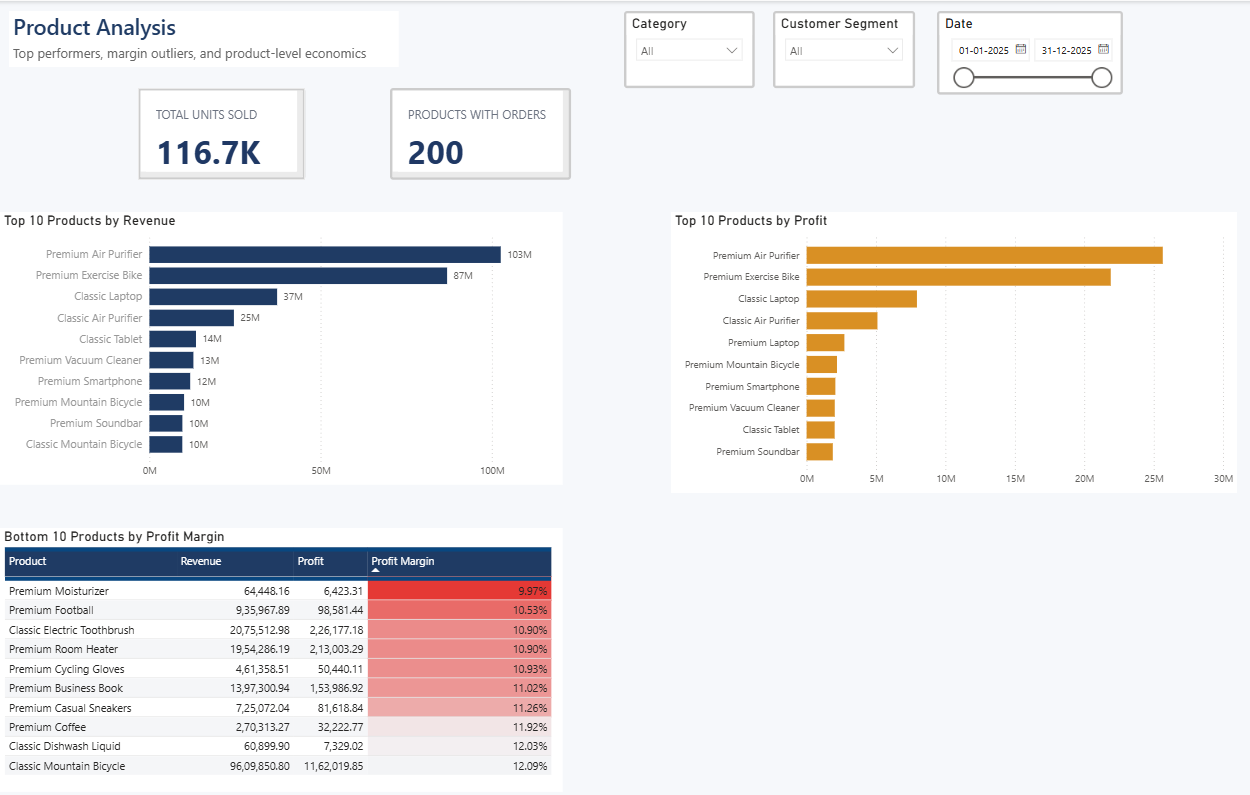

The page's visual inventory and layout, read from the dashboard file:
{"tool":"powerbi","page":{"name":"Product Analysis","canvas":[1600,1000],"ordinal":1},"visuals":[{"type":"clusteredBarChart","title":"Top 10 Products by Revenue","fields":{"Category":["products.product_name"],"Y":["Sum(orders.revenue)"]},"box":[0,259.9,693.3,336.2],"z":0},{"type":"clusteredBarChart","title":"Top 10 Products by Profit","fields":{"Category":["products.product_name"],"Y":["Sum(orders.profit)"]},"box":[826.4,259.9,697,346.1],"z":1000},{"type":"tableEx","title":"Bottom 10 Products by Profit Margin","fields":{"Values":["products.product_name","Sum(orders.revenue)","Sum(orders.profit)","orders.Profit Margin"]},"box":[0,649,693.3,325.1],"z":2000},{"type":"textbox","title":"Product Analysis","box":[11.1,12.3,480.3,69],"z":3000},{"type":"cardVisual","fields":{"Data":["orders.Total Units Sold"]},"box":[170,107.1,205.7,113.3],"z":4000},{"type":"cardVisual","fields":{"Data":["orders.Products with Orders"]},"box":[480.3,107.1,222.9,113.3],"z":5000},{"type":"slicer","title":"Date","fields":{"Values":["orders.order_date"]},"box":[1153.8,12.2,229.4,103.1],"z":6000},{"type":"slicer","title":"Category","fields":{"Values":["products.category"]},"box":[768.1,12.2,160.7,95.3],"z":7000},{"type":"slicer","title":"Customer Segment","fields":{"Values":["customers.customer_segment"]},"box":[952.1,12.2,175.1,95.3],"z":8000}]}

Visuals, with their boxes in screenshot pixels (x1, y1, x2, y2), scaled from the page's 1600x1000 canvas onto the 1250x795 screenshot:
"Top 10 Products by Revenue" clusteredBarChart: <bbox>0, 207, 542, 474</bbox>
"Top 10 Products by Profit" clusteredBarChart: <bbox>646, 207, 1190, 482</bbox>
"Bottom 10 Products by Profit Margin" tableEx: <bbox>0, 516, 542, 774</bbox>
"Product Analysis" textbox: <bbox>9, 10, 384, 65</bbox>
cardVisual - orders.Total Units Sold: <bbox>133, 85, 294, 175</bbox>
cardVisual - orders.Products with Orders: <bbox>375, 85, 549, 175</bbox>
"Date" slicer: <bbox>901, 10, 1081, 92</bbox>
"Category" slicer: <bbox>600, 10, 726, 85</bbox>
"Customer Segment" slicer: <bbox>744, 10, 881, 85</bbox>
